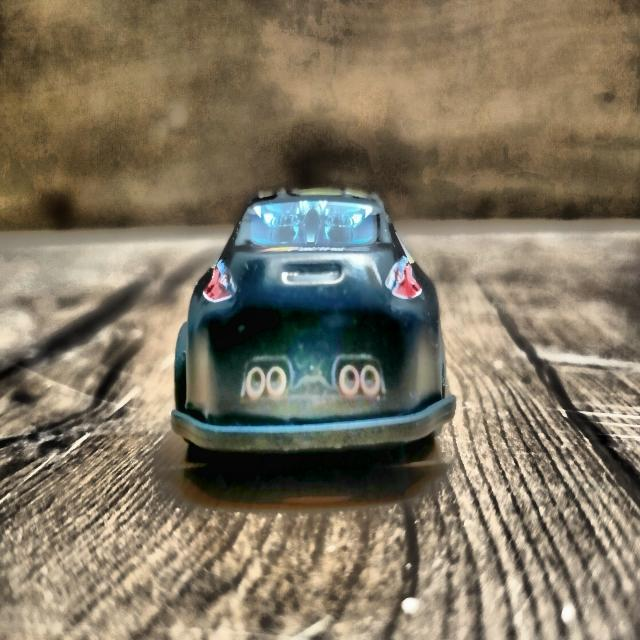Car: (171, 190, 455, 451)
